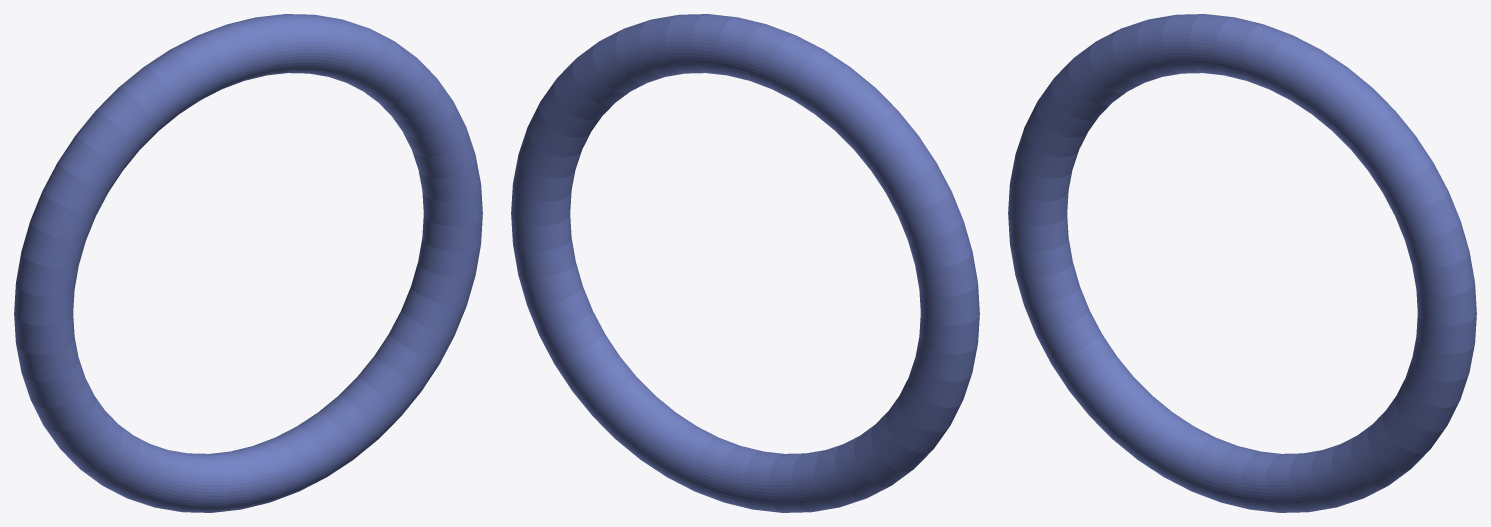
3 views of the same model, side by side, from view 1: azimuth 30°, elevation 25°; view 2: azimuth 150°, elevation 25°; view 3: azimuth 330°, elevation 25° (orthographic).
Visible parts, largest first — view 1: world; view 2: world; view 3: world.
Boxes of the visible parts, box(x1,y1,x2,y2) form: world: box(14, 14, 482, 512); world: box(511, 14, 979, 512); world: box(1008, 14, 1476, 512).
Size of the model in its own units: 18 by 17.96 by 2.
